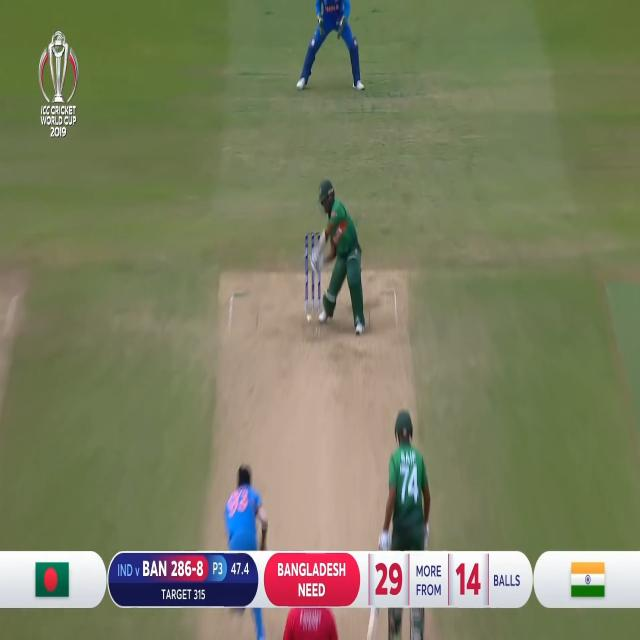ball: (306, 312, 312, 323)
stump: (306, 233, 322, 314)
